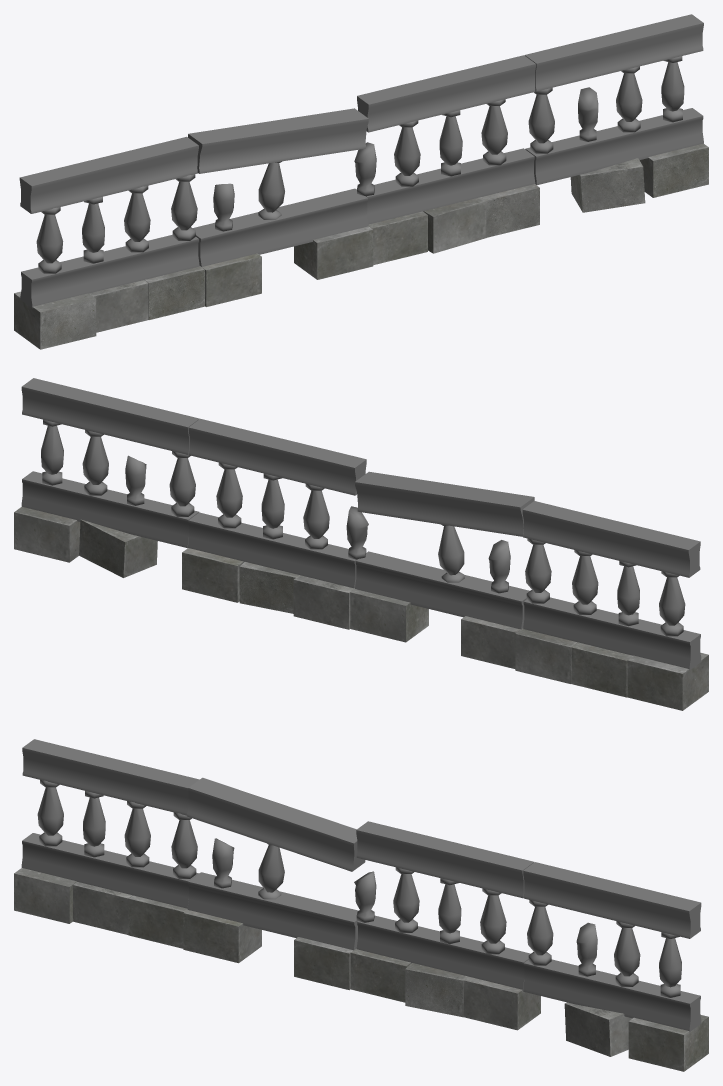
Rendered from SM_railing_05.fbx.
The picture shows the model from 3 angles, top to bottom: view 1: azimuth 30°, elevation 25°; view 2: azimuth 150°, elevation 25°; view 3: azimuth 330°, elevation 25°; orthographic projection.
Parts seen in each view (by area): view 1: DarkFantasyObject17; view 2: DarkFantasyObject17; view 3: DarkFantasyObject17.
Boxes of the visible parts, bbox=[...] form: DarkFantasyObject17: bbox=[14, 14, 708, 349]; DarkFantasyObject17: bbox=[14, 378, 708, 710]; DarkFantasyObject17: bbox=[14, 739, 708, 1071].
Bounding box in the file's own units: 198 × 45.37 × 16.1.
